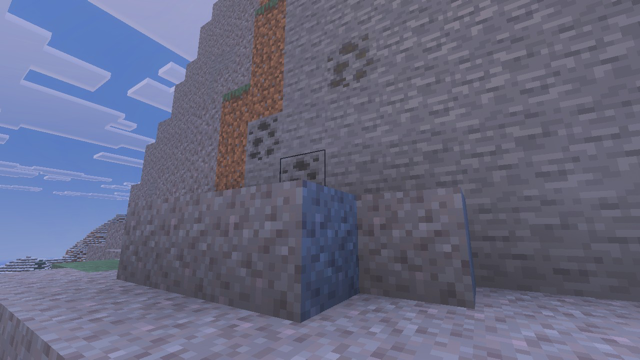coal: (244, 112, 328, 196), (321, 31, 377, 92)
